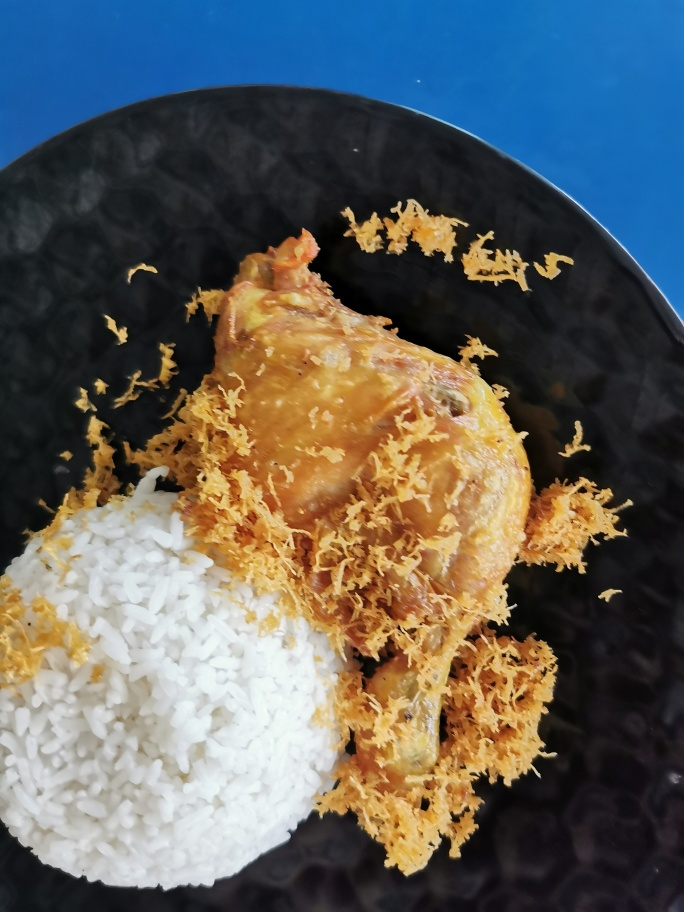ayam goreng: (165, 227, 580, 839)
nasi putih: (1, 485, 340, 899)
